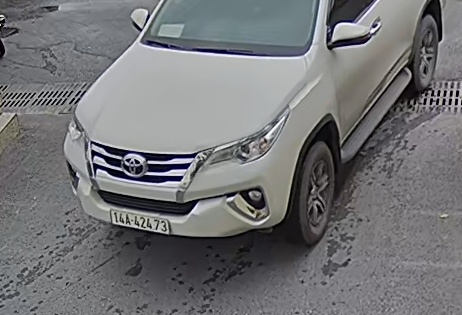vehicle plate: (107, 206, 174, 237)
